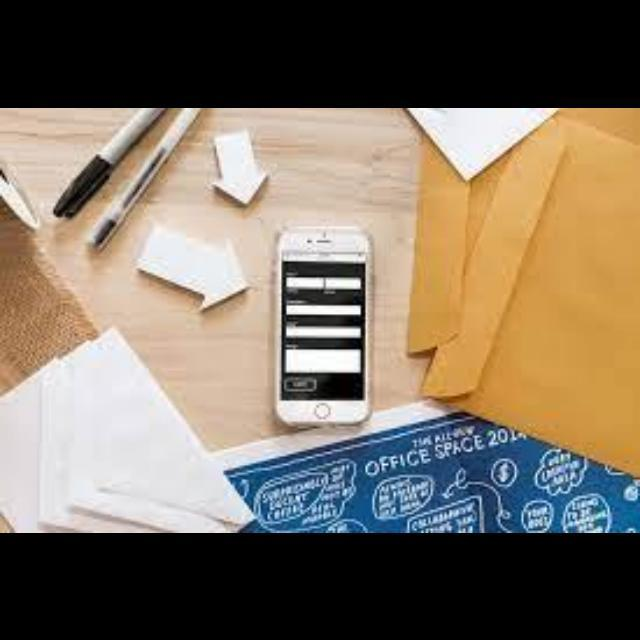Phone: (271, 225, 371, 427)
